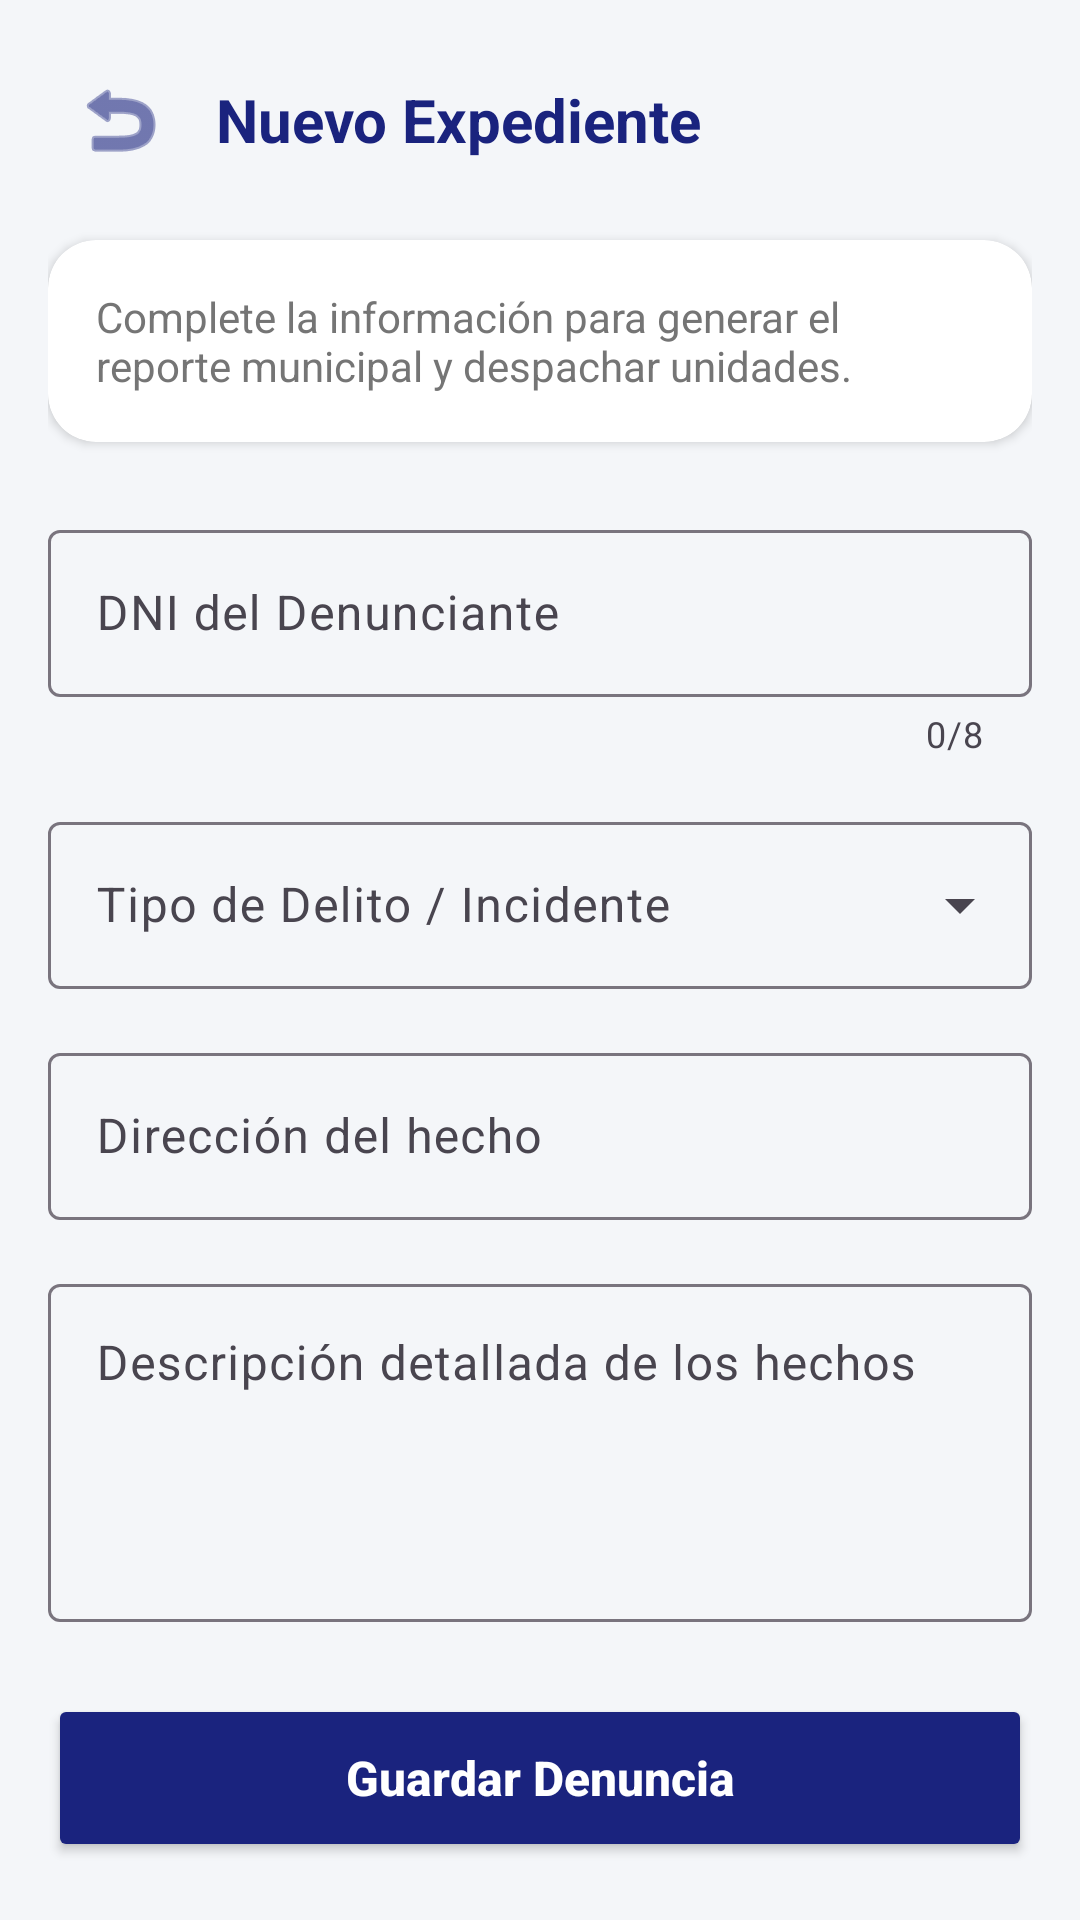

Icon bounding boxes for this 1080w x 1920h phone screenshot, format (x1, y1, x2, y2):
Atrás: (87, 89, 156, 152)
